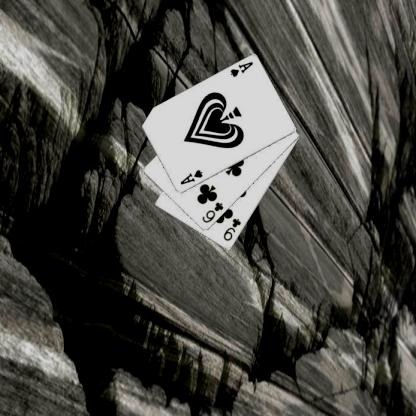6C: (199, 200, 224, 224)
9C: (221, 216, 242, 243)
AS: (177, 167, 204, 186), (228, 60, 254, 78)
